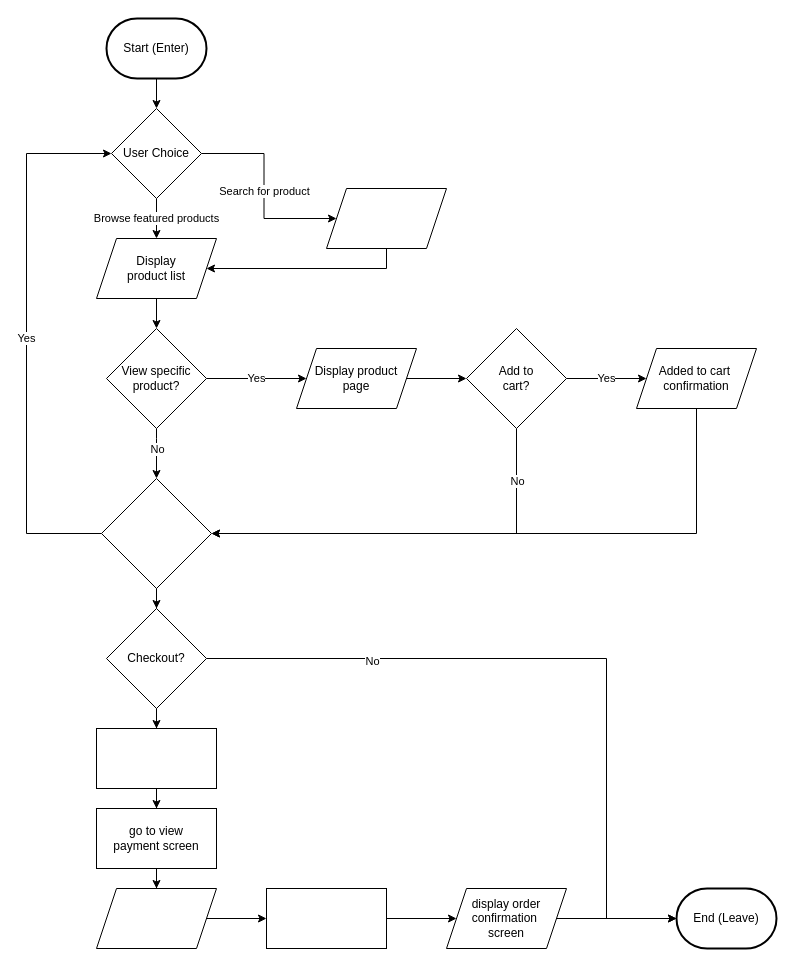
Some shapes in this 794 by 966 pixel diagram are drawn without their labels. Each missing label, with the box of its shape:
Continue shopping?: (100, 478, 212, 588)
Enter search term: (326, 188, 446, 248)
go to view cart screen: (96, 728, 216, 788)
input payment information: (96, 888, 216, 948)
send user an email: (266, 888, 386, 948)
